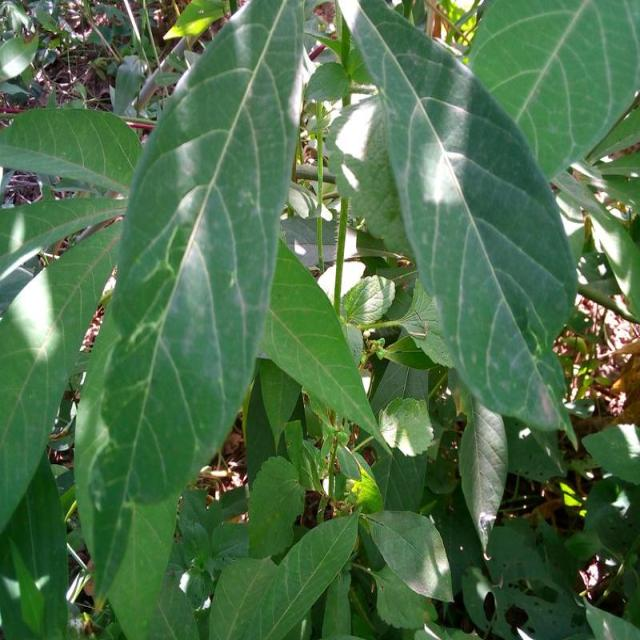cassava leaf: (73, 0, 308, 637), (337, 0, 581, 441), (466, 0, 640, 186)
